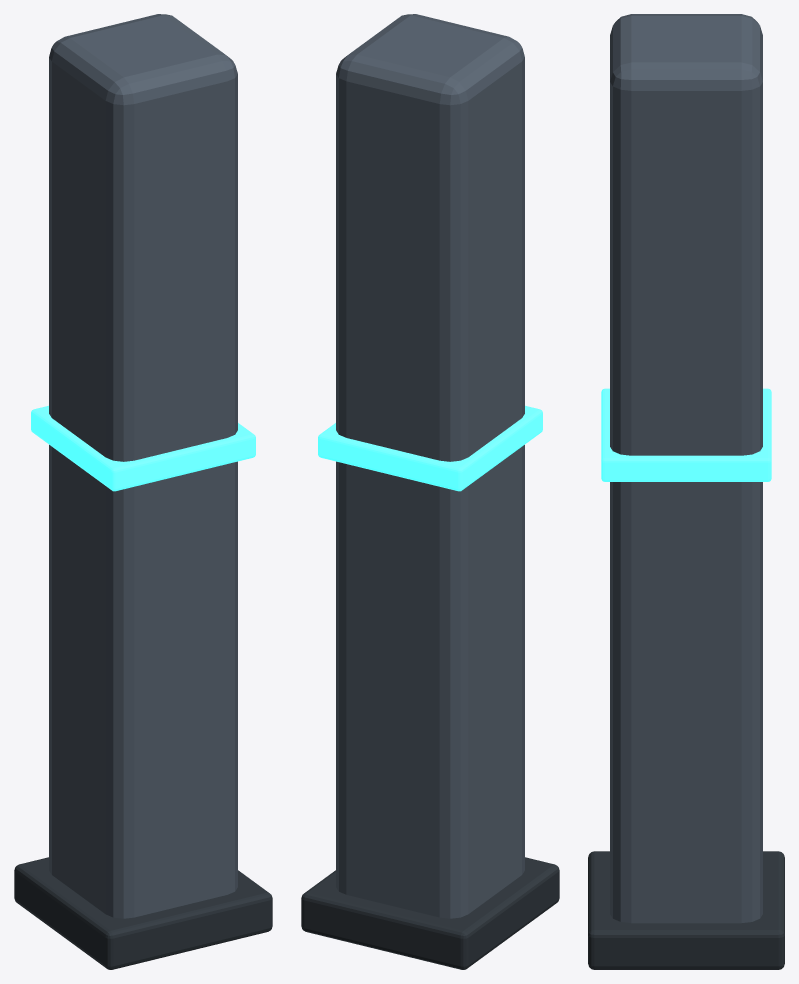
The model's file is prop_pillar.glb.
3 renders of one model, left to right at view 1: azimuth 30°, elevation 25°; view 2: azimuth 150°, elevation 25°; view 3: azimuth 270°, elevation 25°, orthographic. The views are drawn at different scales.
Parts seen in each view (by area): view 1: prop_pillar; view 2: prop_pillar; view 3: prop_pillar.
Part boxes in pixels (x1,y1,x2,y2): prop_pillar: [14, 14, 272, 969]; prop_pillar: [301, 14, 559, 969]; prop_pillar: [588, 14, 784, 969].
Size of the model in its own units: 0.9 by 4.5 by 0.9.
